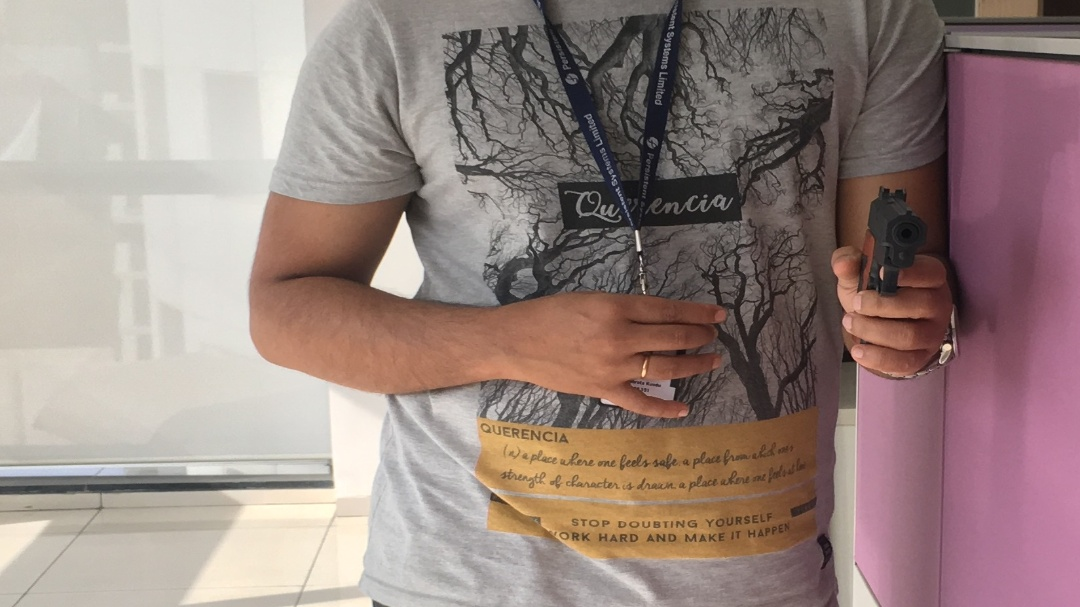gun: (858, 184, 928, 297)
